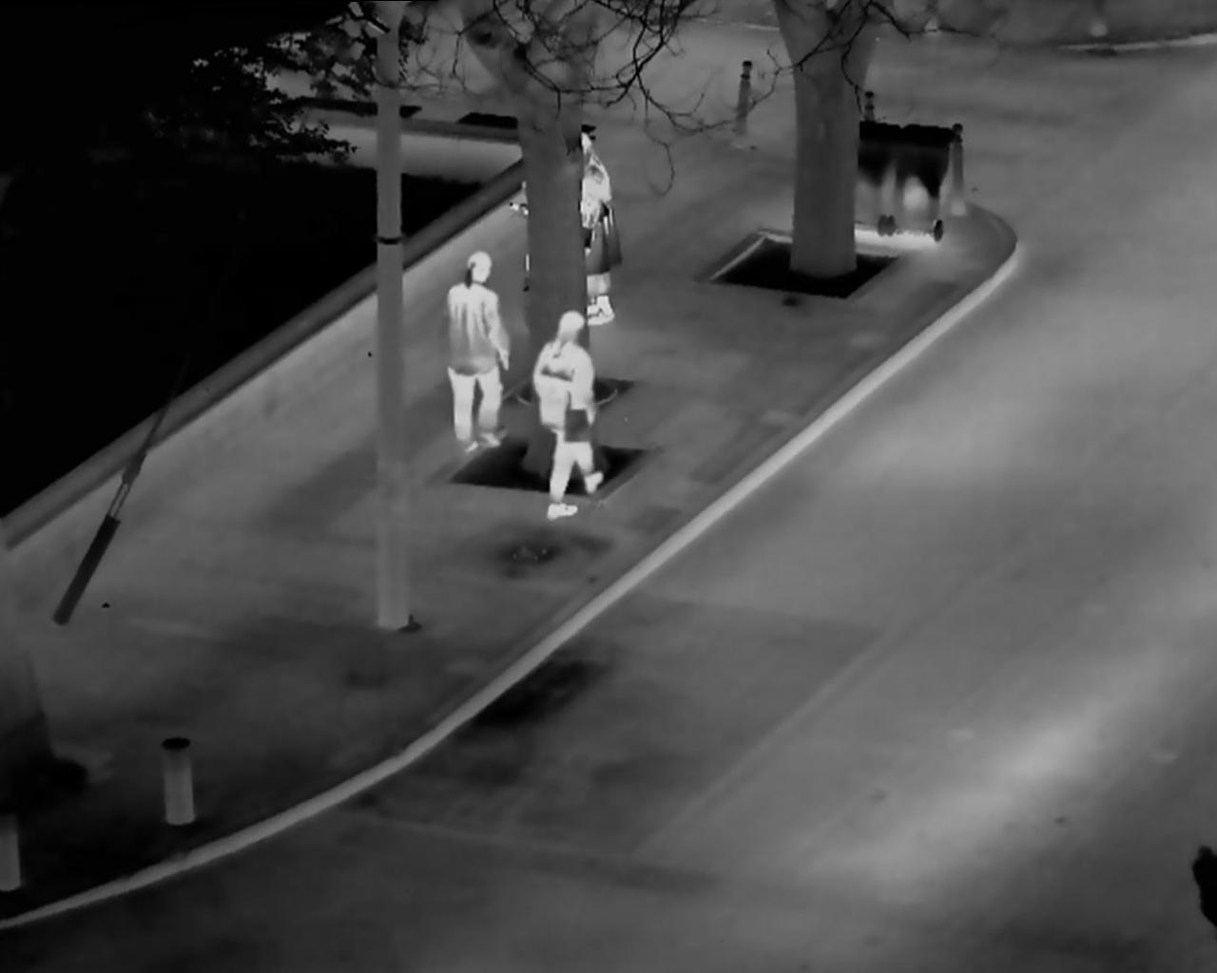person: (435, 236, 513, 459), (573, 118, 641, 367), (531, 297, 597, 521)
